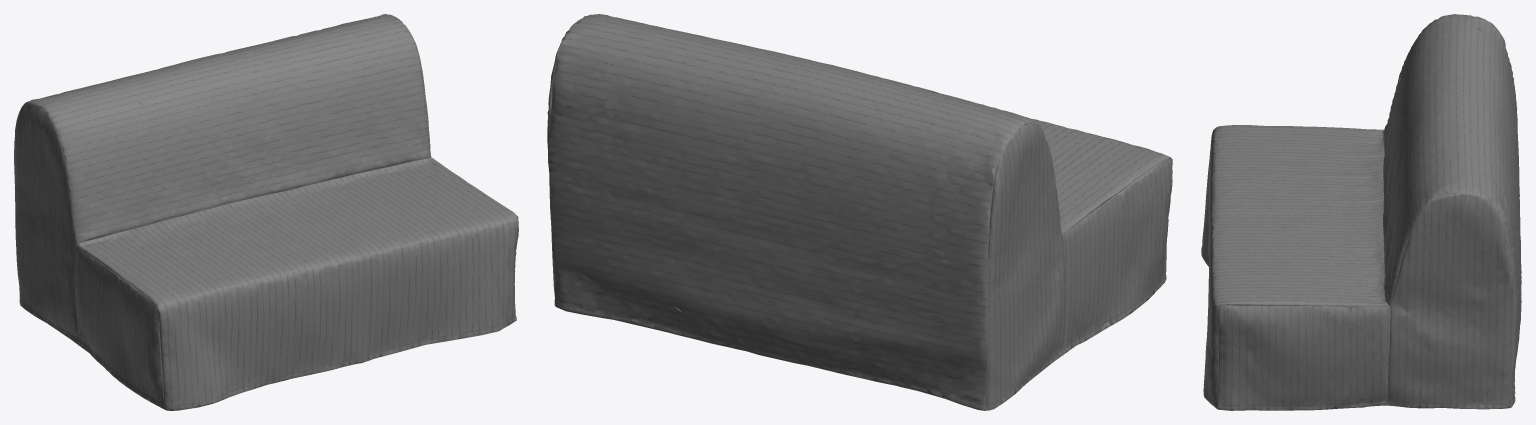
File: lycksele_lovas_sofa_2_osobowa_rozkadana_09387035.glb
The picture shows the model from 3 angles, left to right: view 1: azimuth 30°, elevation 25°; view 2: azimuth 150°, elevation 25°; view 3: azimuth 270°, elevation 25°; orthographic projection. The views are drawn at different scales.
Parts seen in each view (by area): view 1: lycksele_lovas_sofa_2_osobowa_rozkadana_09387035; view 2: lycksele_lovas_sofa_2_osobowa_rozkadana_09387035; view 3: lycksele_lovas_sofa_2_osobowa_rozkadana_09387035.
Boxes of the visible parts, x1,y1,x2,y2 form: lycksele_lovas_sofa_2_osobowa_rozkadana_09387035: [14, 14, 518, 410]; lycksele_lovas_sofa_2_osobowa_rozkadana_09387035: [547, 14, 1172, 410]; lycksele_lovas_sofa_2_osobowa_rozkadana_09387035: [1201, 14, 1521, 410].
Size of the model in its own units: 1.48 by 0.8614 by 1.09.
1 material, 1 textured.
